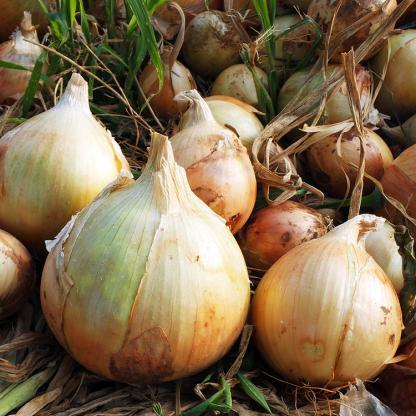onion: (80, 189, 227, 372), (268, 245, 391, 396), (26, 112, 122, 245)
